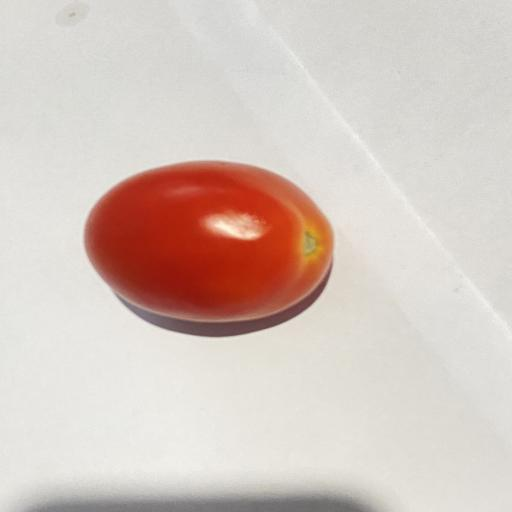ripe: (85, 161, 333, 323)
